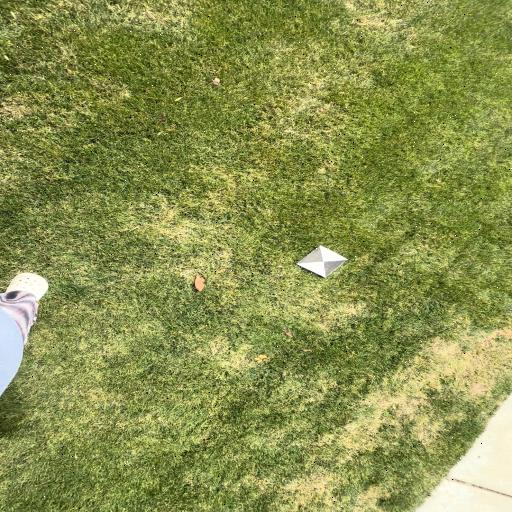target: (296, 246, 346, 277)
